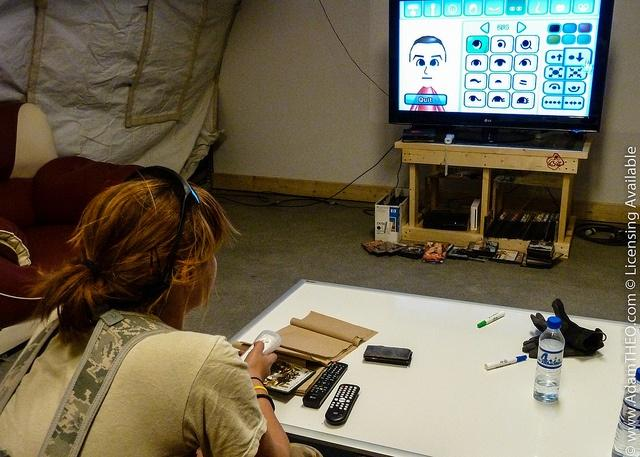Kursi: (386, 0, 617, 144)
